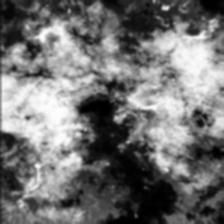Potentially Malignant Skin Tumors: (70, 80, 132, 133)
